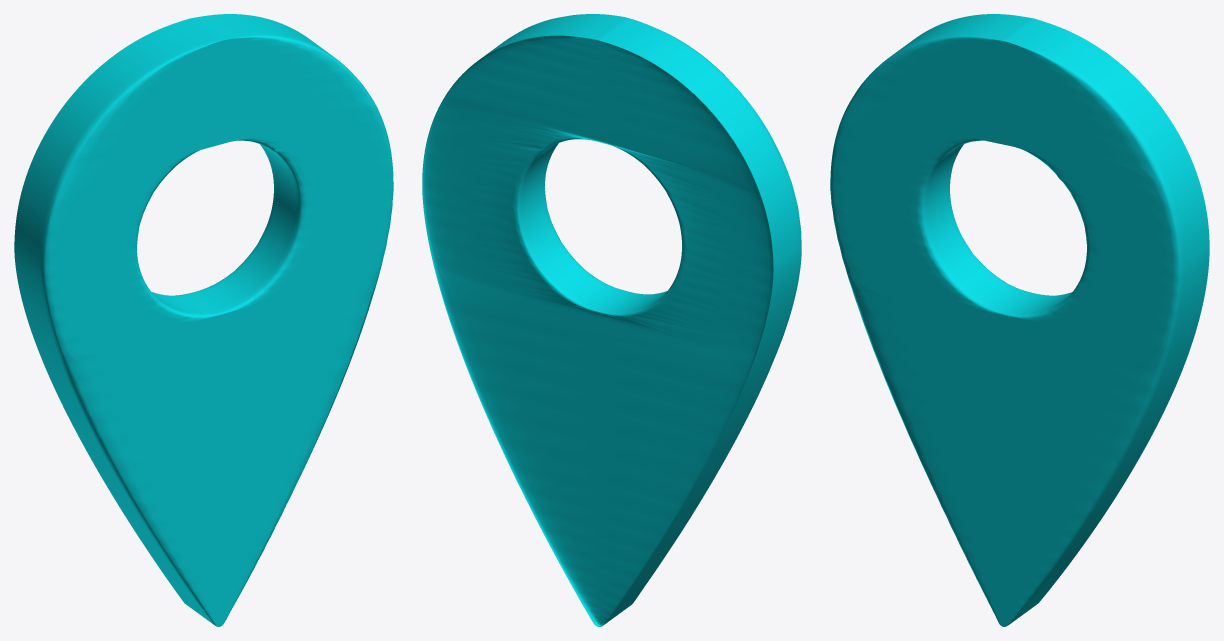
Rendered from aqua.gltf.
3 renders of one model, left to right at view 1: azimuth 30°, elevation 25°; view 2: azimuth 150°, elevation 25°; view 3: azimuth 330°, elevation 25°, orthographic.
Parts seen in each view (by area): view 1: Curve_2; view 2: Curve_2; view 3: Curve_2.
Boxes of the visible parts, box(x1,y1,x2,y2) form: Curve_2: box(14, 14, 393, 626); Curve_2: box(422, 14, 801, 626); Curve_2: box(830, 14, 1209, 626).
Bounding box in the file's own units: 0.2761 × 0.4404 × 0.0416.
